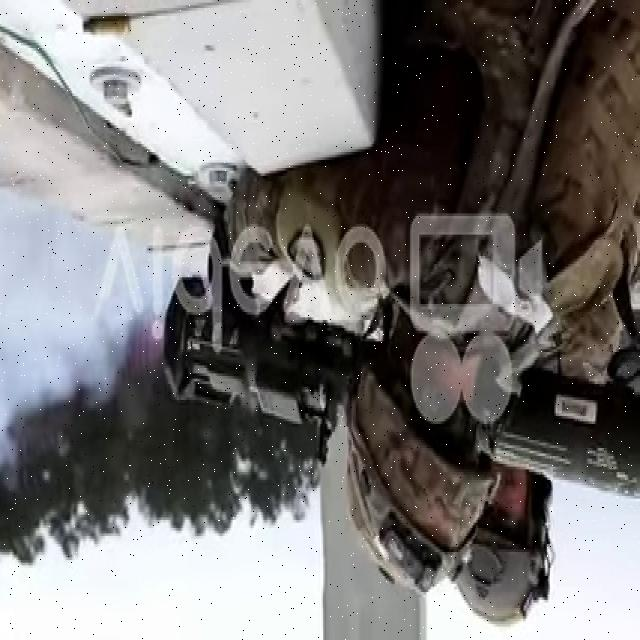bazooka: (153, 260, 640, 507)
